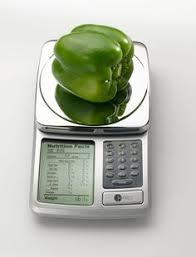Industrial Scale: (30, 39, 153, 221)
